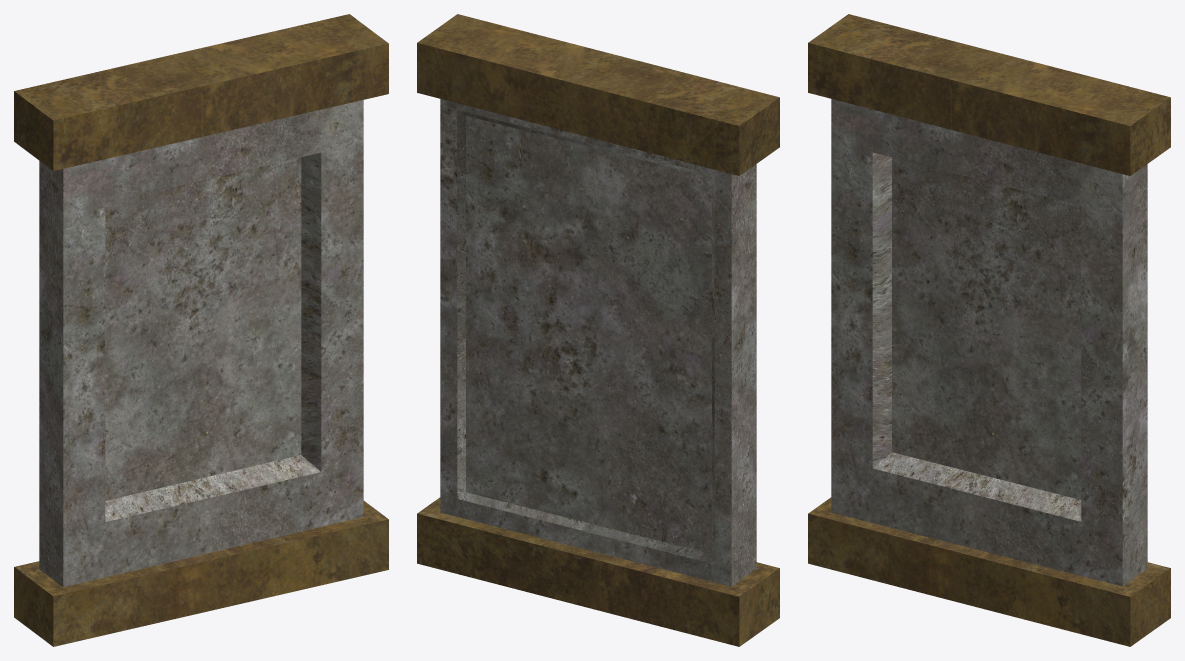
Rendered from mg_12__plate_3.fbx.
3 renders of one model, left to right at view 1: azimuth 30°, elevation 25°; view 2: azimuth 150°, elevation 25°; view 3: azimuth 330°, elevation 25°, orthographic.
Visible parts, largest first — view 1: mg_12__plate_3; view 2: mg_12__plate_3; view 3: mg_12__plate_3.
Part boxes in pixels (box(x1,y1,x2,y2)): mg_12__plate_3: box(14, 14, 388, 646); mg_12__plate_3: box(417, 14, 779, 646); mg_12__plate_3: box(808, 14, 1170, 646).
Size of the model in its own units: 27.03 by 41.03 by 6.35.
